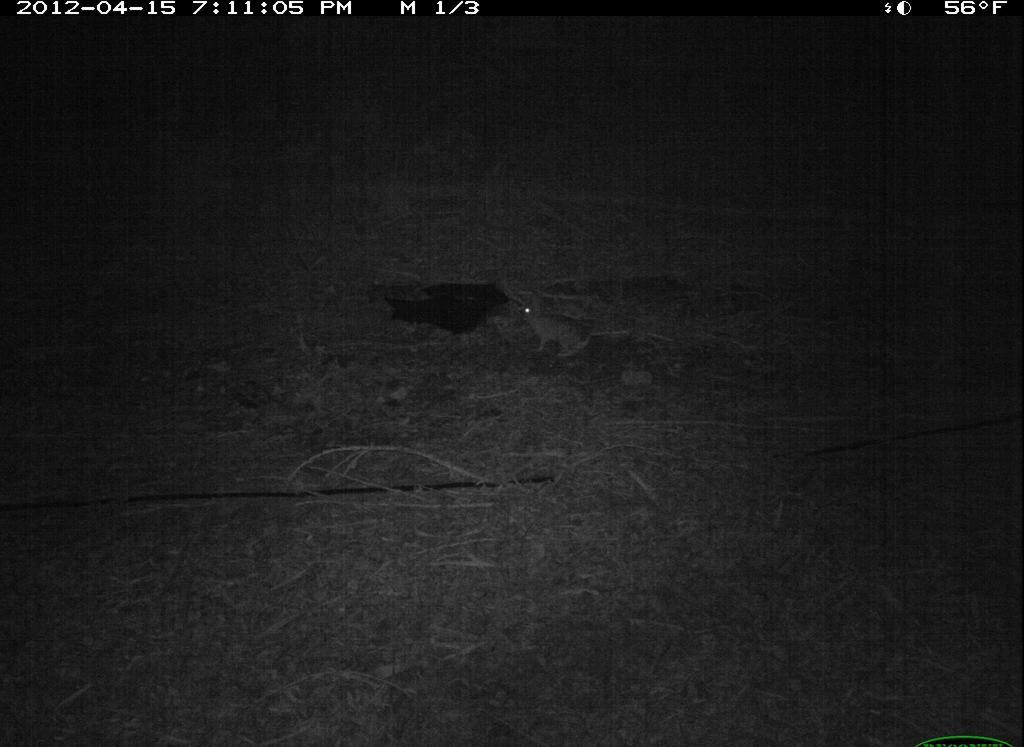rabbit: (520, 294, 592, 361)
